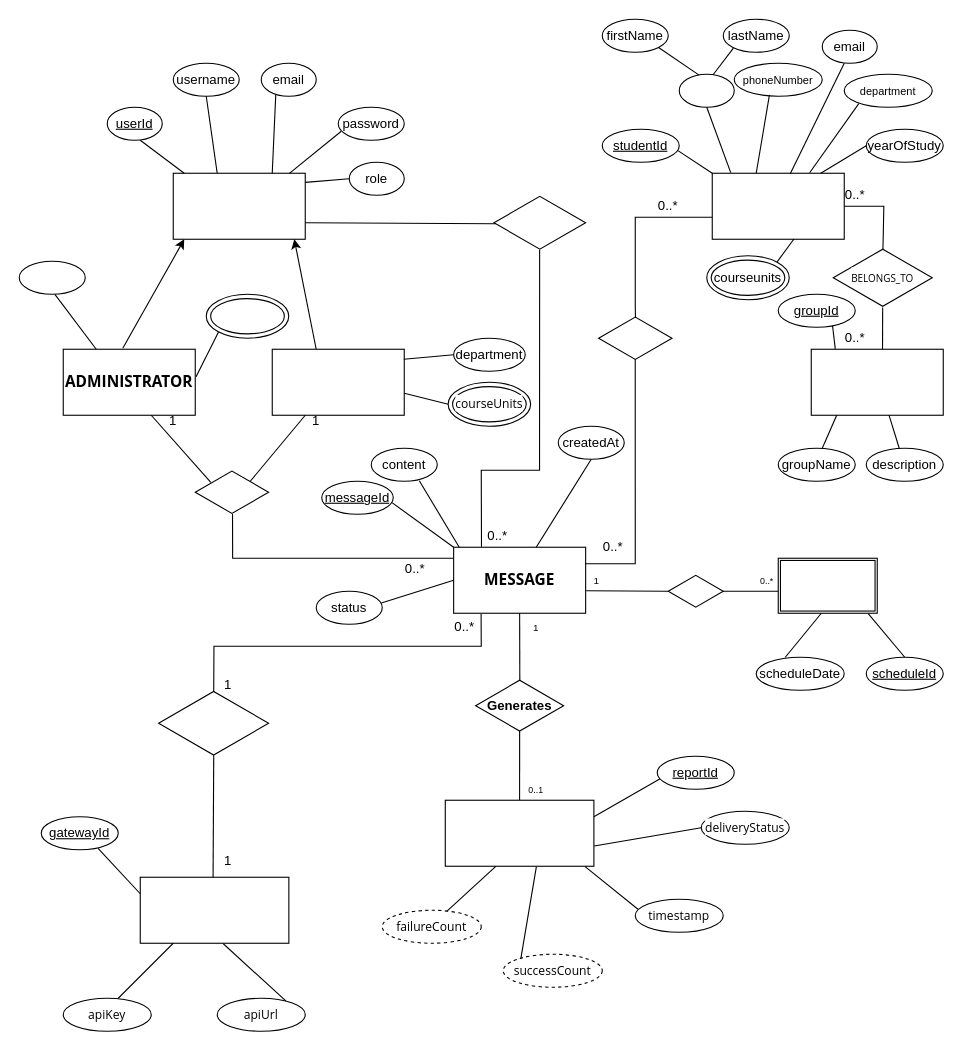
Some shapes in this 963 by 1051 pixel diagram are drawn without their labels. The box of each missing label's shape, as (x1, y1, x2, y2) in pixels:
Composes: (194, 469, 269, 514)
CONTACT_GROUP: (810, 348, 943, 415)
DELIVERY_REPORT: (444, 799, 594, 866)
Has: (667, 574, 723, 608)
LECTURER: (271, 348, 404, 415)
level: (18, 260, 85, 294)
name: (678, 73, 734, 107)
permission: (205, 293, 289, 338)
Processes: (158, 689, 269, 756)
Receives: (598, 315, 672, 360)
SCHEDULE: (777, 557, 877, 613)
SENDS: (493, 194, 586, 250)
SMS_GATEWAY: (139, 876, 289, 943)
STUDENT: (711, 172, 844, 239)
USER: (172, 172, 305, 239)
